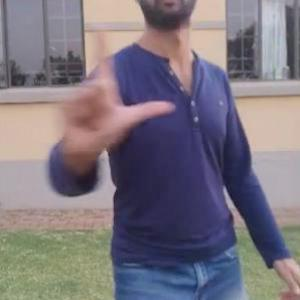land_hand: (60, 19, 178, 153)
